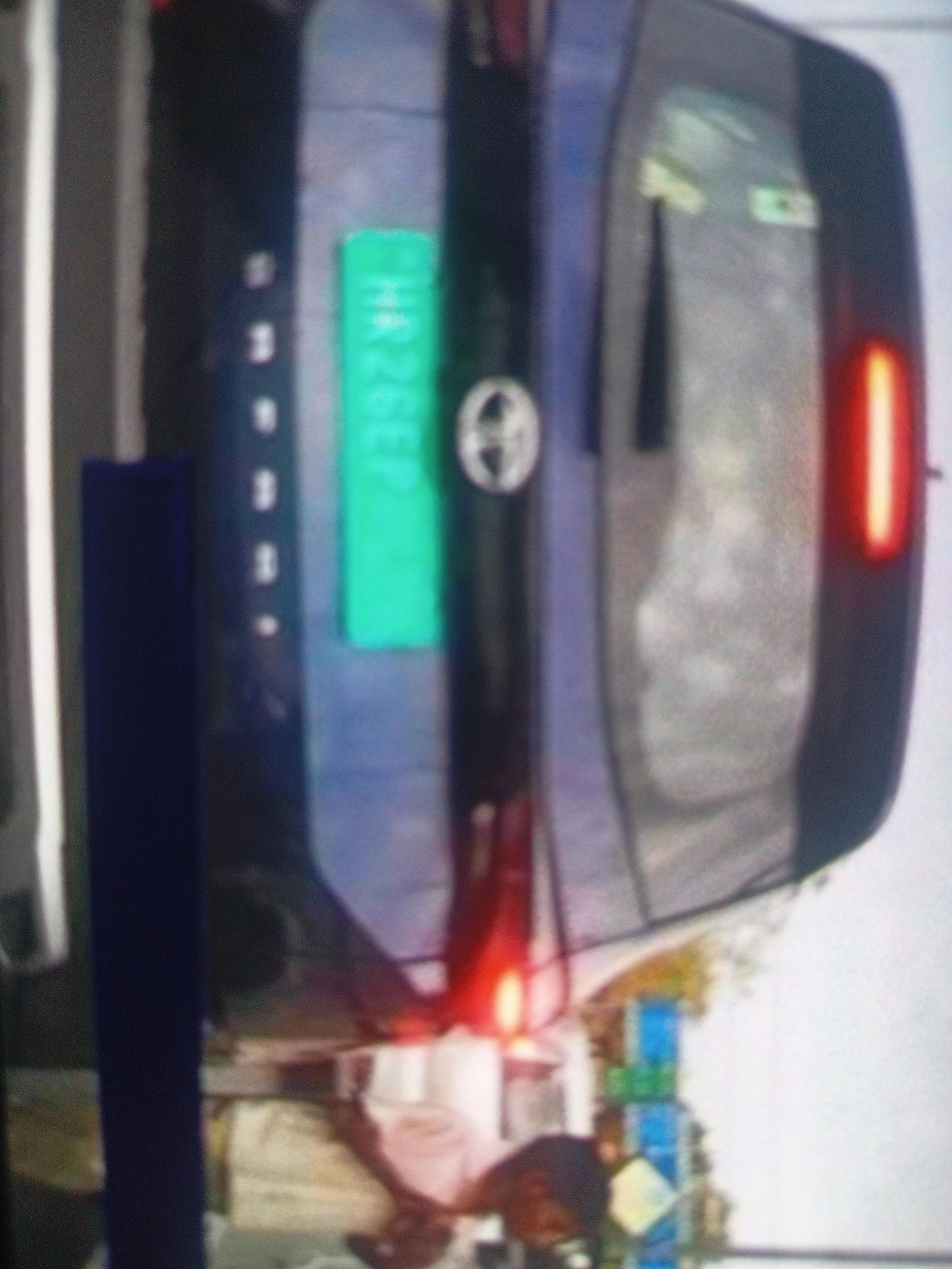green license plate: (330, 218, 454, 660)
